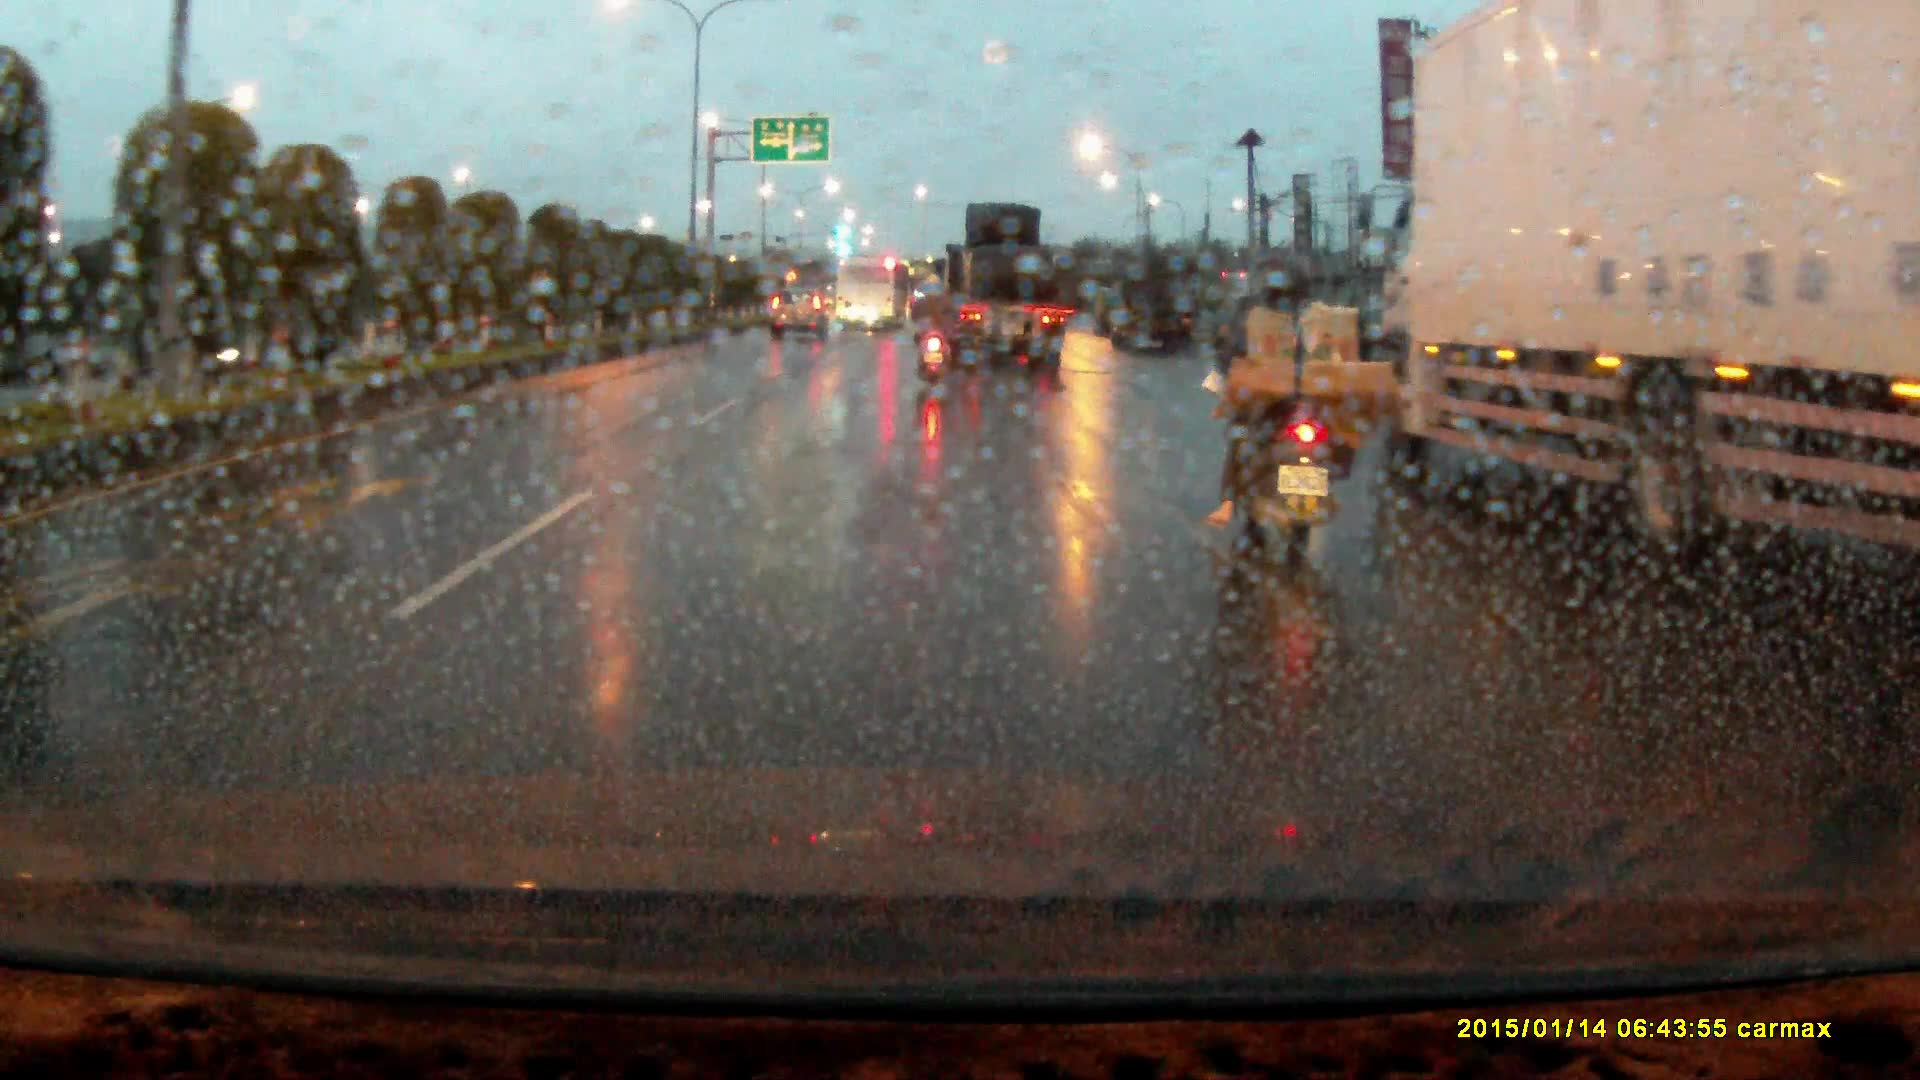rider: (1200, 253, 1402, 583), (911, 284, 955, 393)
vehicle: (1376, 1, 1920, 563), (922, 200, 1064, 369), (1114, 261, 1196, 356), (836, 257, 907, 331), (770, 289, 828, 341), (1091, 284, 1127, 333)
